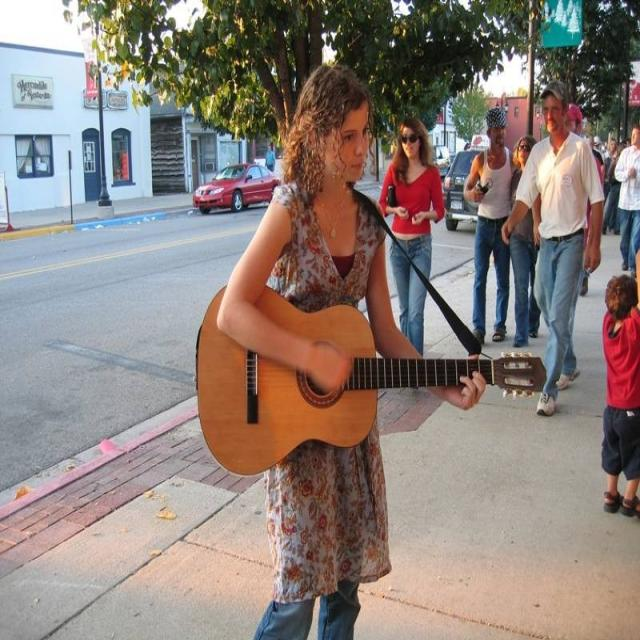guitar: (194, 278, 549, 479)
